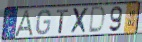9: (108, 6, 123, 33)
A: (13, 9, 36, 38)
D: (88, 6, 107, 35)
G: (35, 9, 52, 36)
T: (55, 9, 70, 35)
X: (70, 7, 90, 35)
